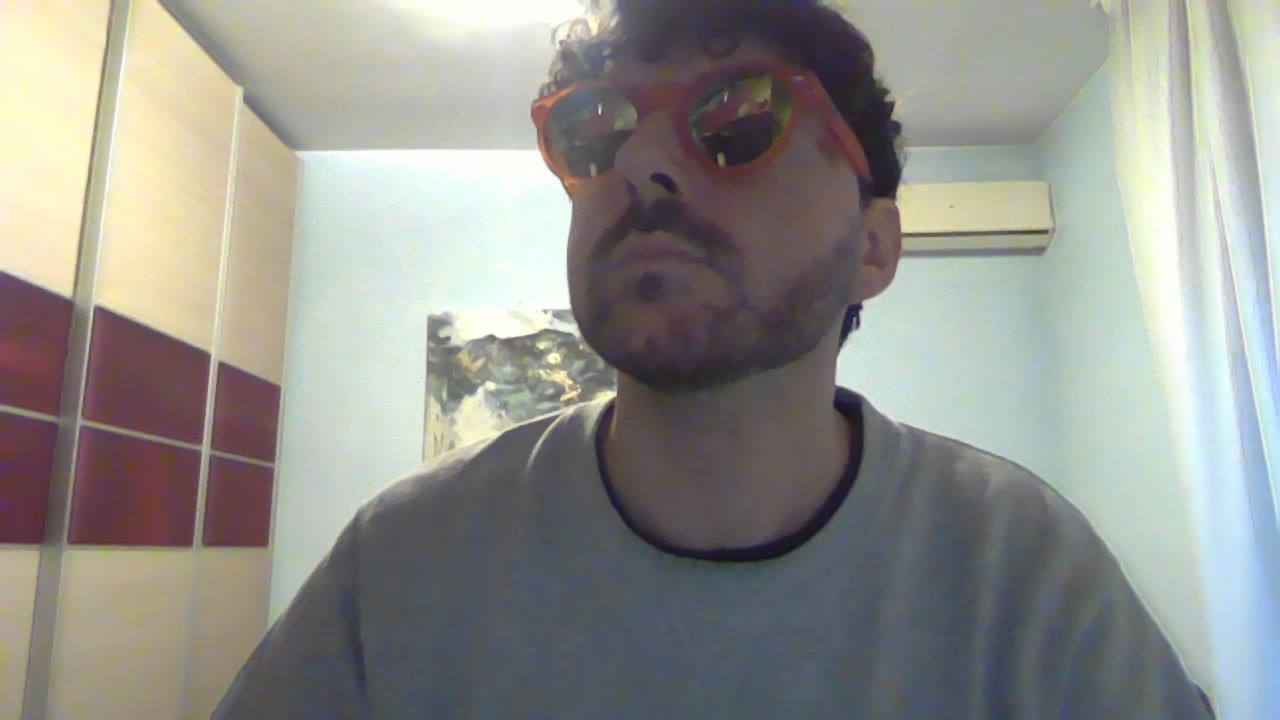Glasses: (520, 76, 887, 197)
